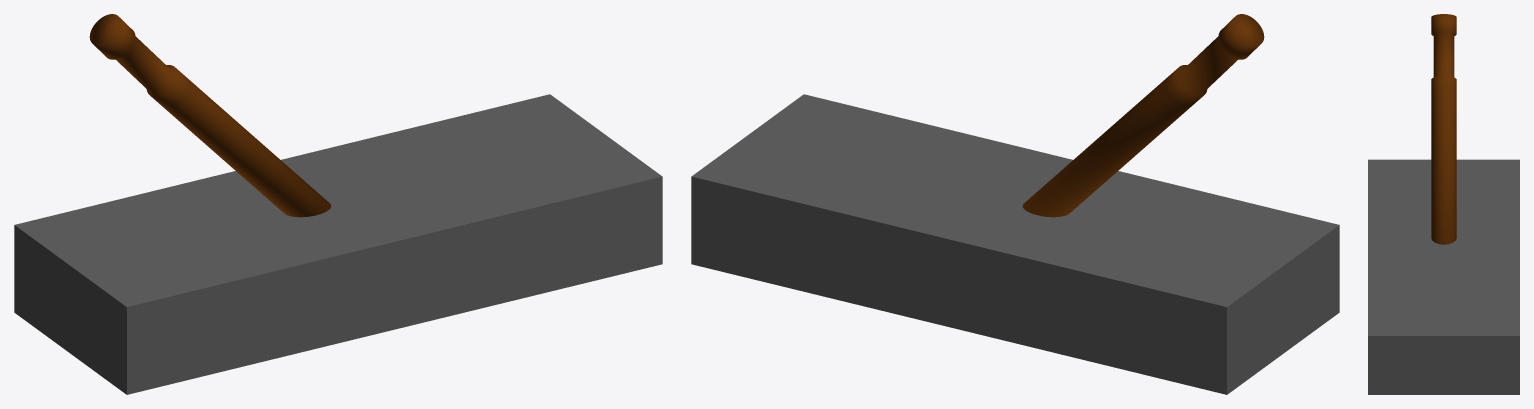
The model's file is lever.fbx.
3 views of the same model, side by side, from view 1: azimuth 30°, elevation 25°; view 2: azimuth 150°, elevation 25°; view 3: azimuth 270°, elevation 25° (orthographic). The views are drawn at different scales.
Parts seen in each view (by area): view 1: Cube, Cylinder; view 2: Cube, Cylinder; view 3: Cube, Cylinder.
Part boxes in pixels (box(x1,y1,x2,y2)): Cube: box(14, 94, 662, 394); Cylinder: box(89, 14, 331, 217); Cube: box(691, 94, 1339, 394); Cylinder: box(1022, 14, 1264, 217); Cube: box(1368, 159, 1519, 394); Cylinder: box(1431, 14, 1456, 244).
Bounding box in the file's own units: 200 × 117 × 72.75.
